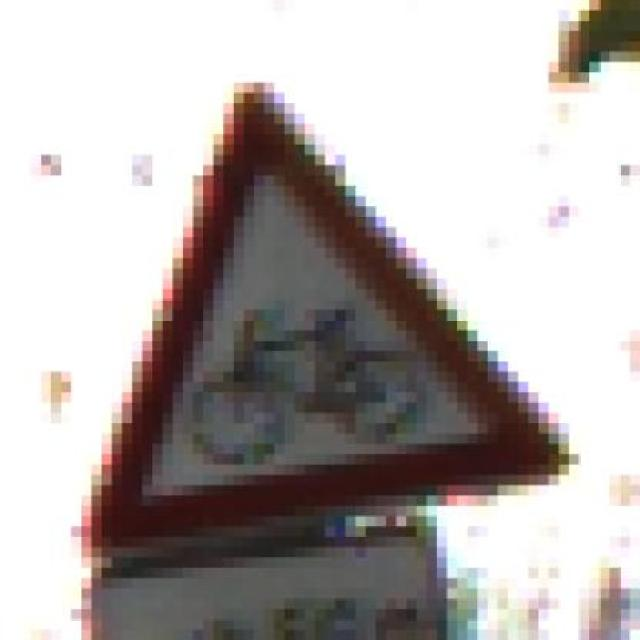CYCLE ROUTE AHEAD WARNING: (41, 71, 579, 558)
